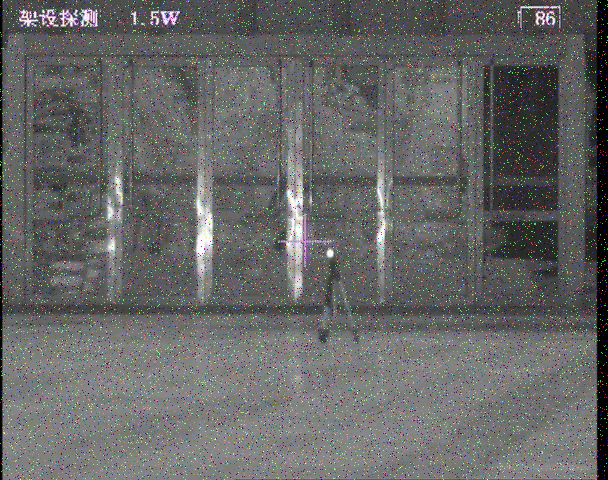my: (326, 248, 334, 258)
